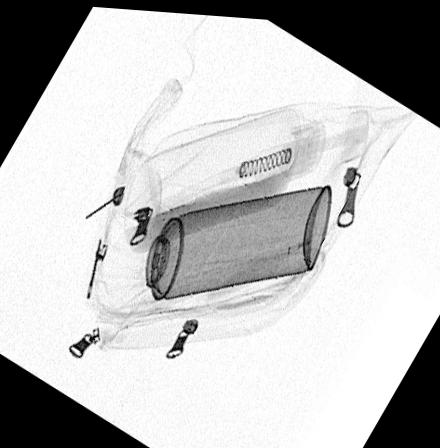Sprayer: (100, 177, 334, 311)
